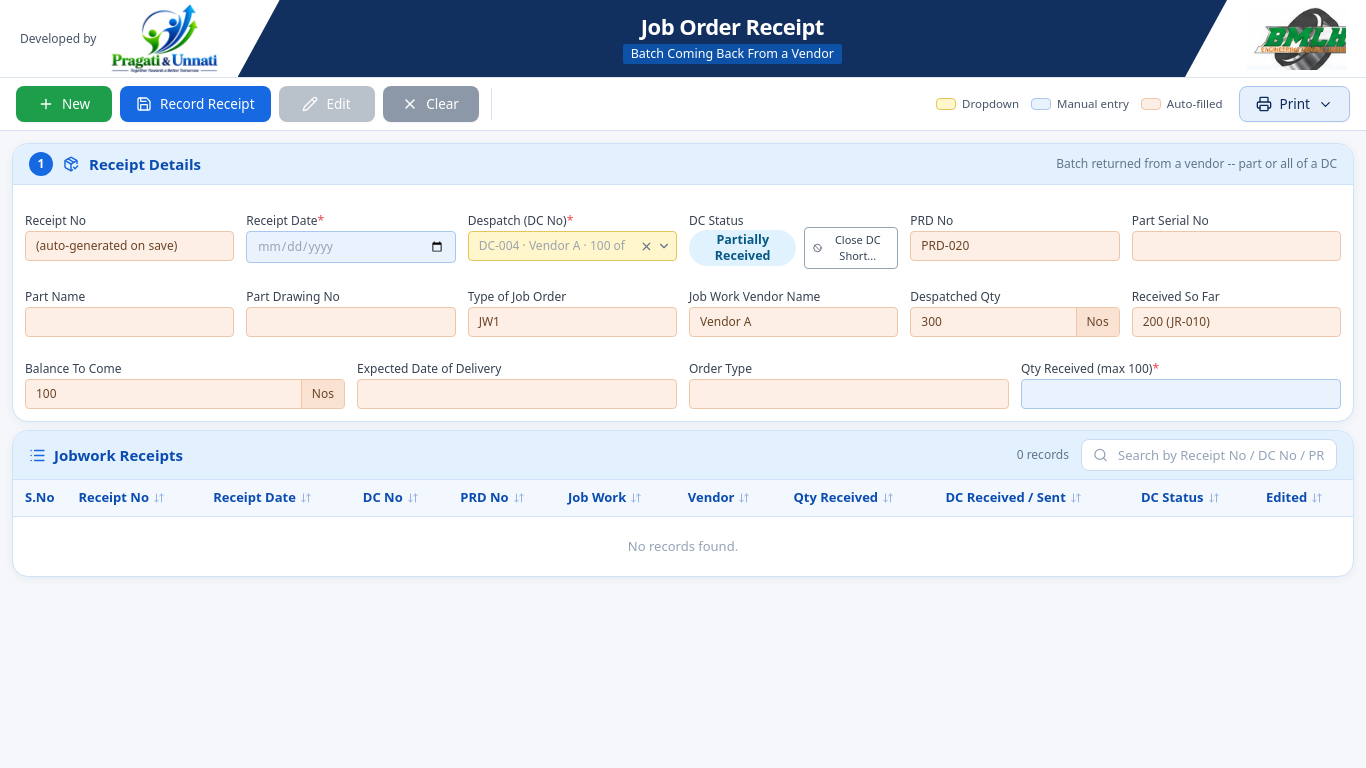
Job Work Receipt -- Close DC Short button › Cancel: nothing saved
Expected: the text "Partially Received" is shown, [689,230,796,266]
Click the button "Close DC Short...": click(851, 248) [804,227,898,269]
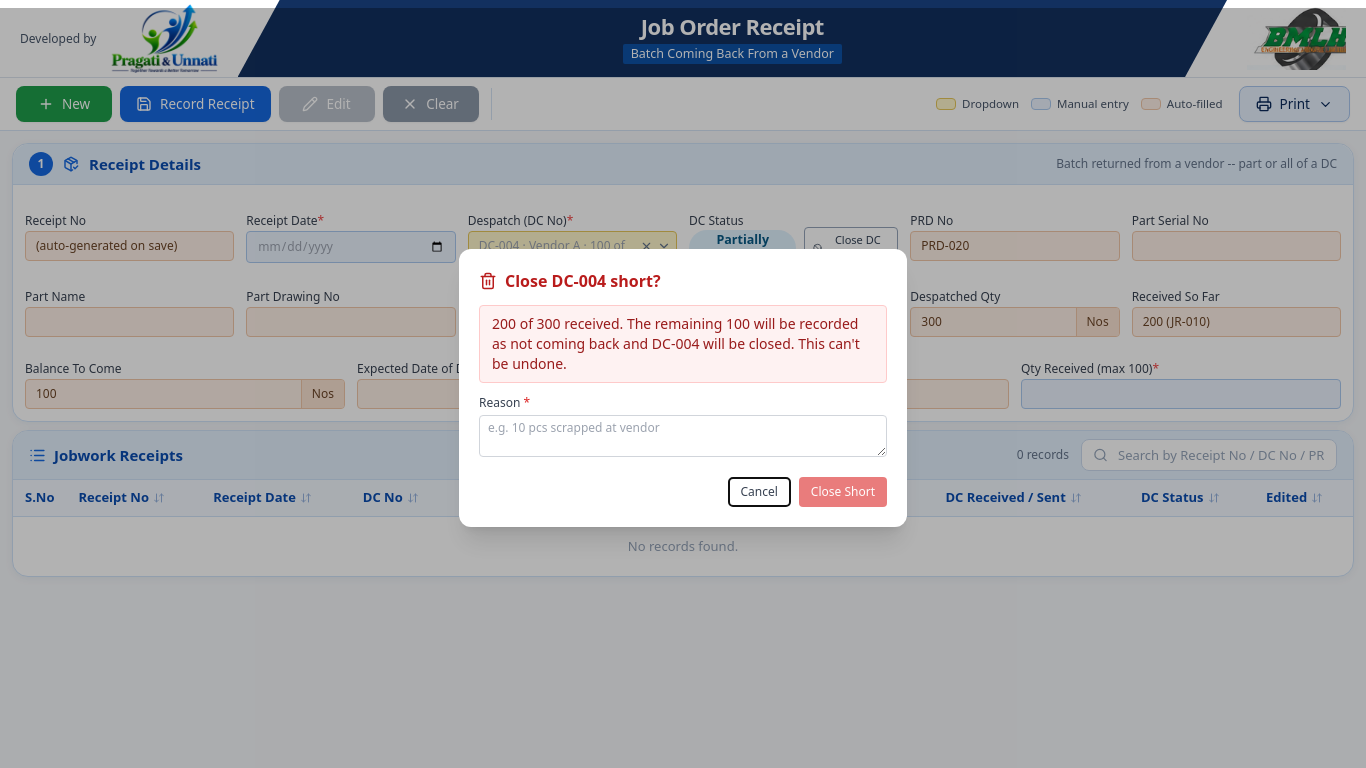
Click the button "Cancel": click(759, 492) [728,477,791,507]
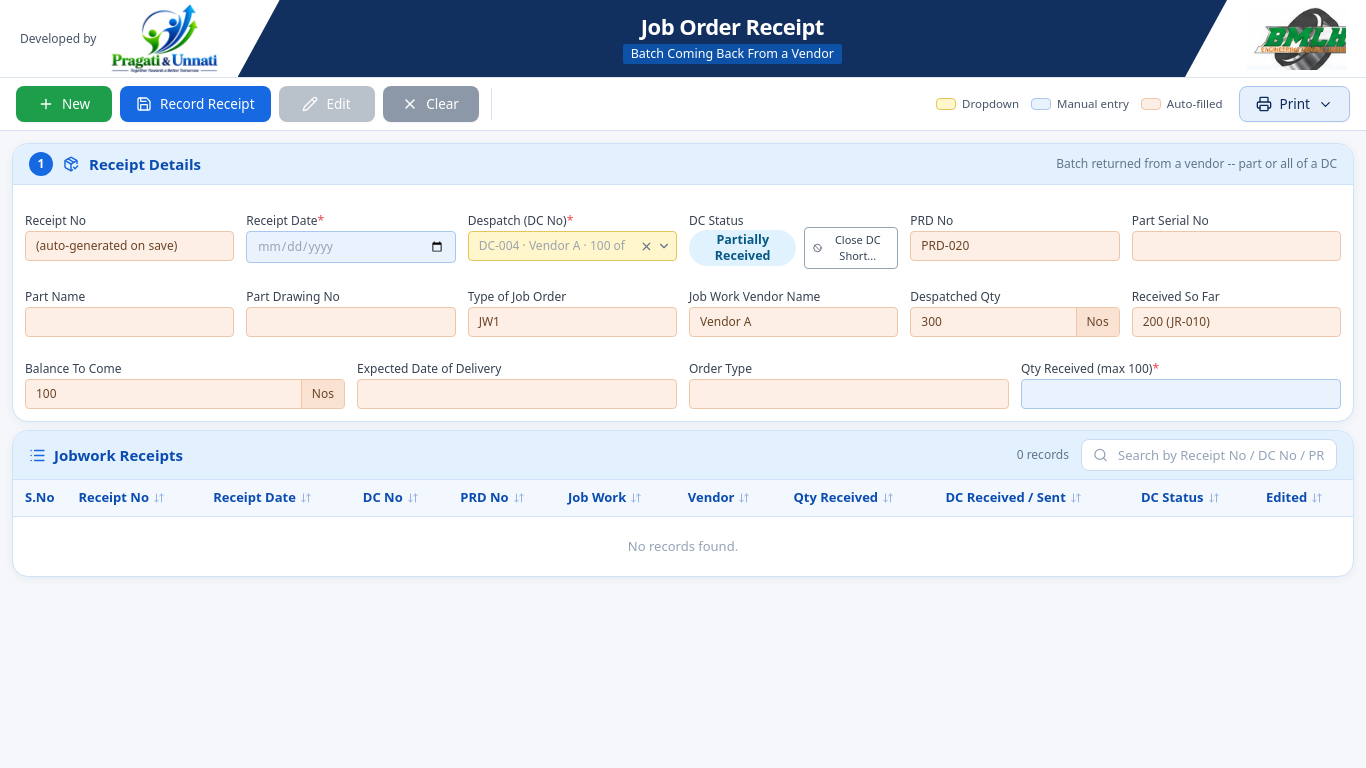
Now the dialog is gone
